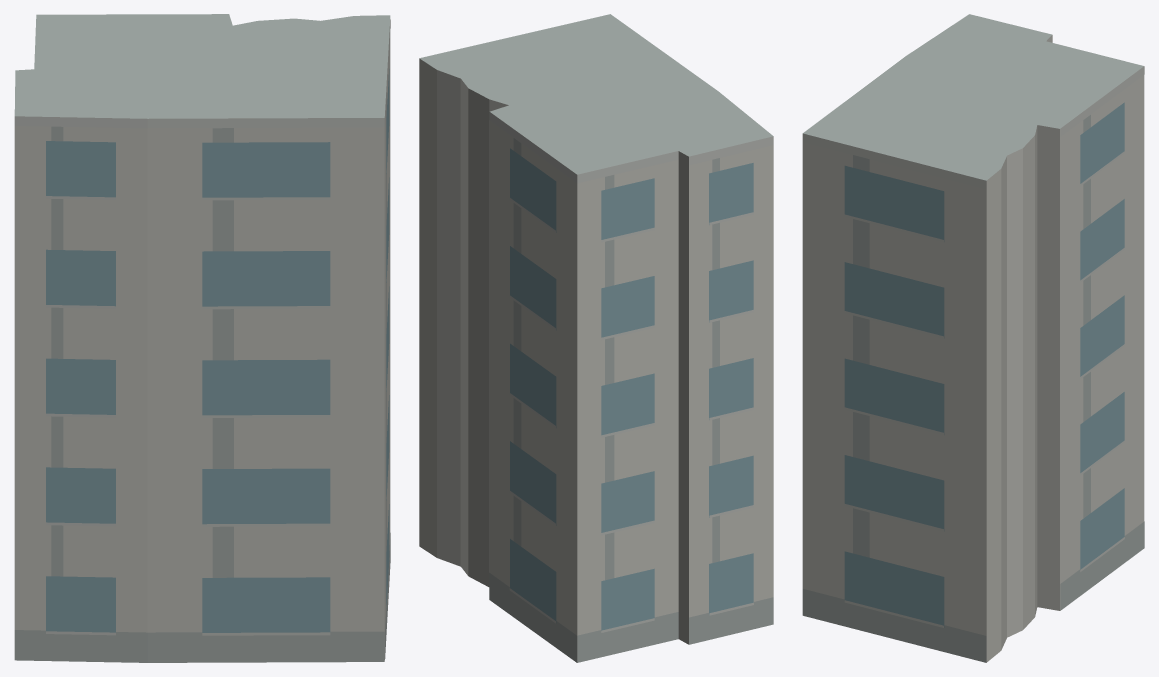
The model's file is survey-upis-32726293.glb.
3 renders of one model, left to right at view 1: azimuth 30°, elevation 25°; view 2: azimuth 150°, elevation 25°; view 3: azimuth 270°, elevation 25°, orthographic. The views are drawn at different scales.
Parts seen in each view (by area): view 1: survey-upis-32726293.tmp; view 2: survey-upis-32726293.tmp; view 3: survey-upis-32726293.tmp.
Part boxes in pixels (bbox=[...]): survey-upis-32726293.tmp: bbox=[14, 14, 390, 662]; survey-upis-32726293.tmp: bbox=[419, 14, 773, 662]; survey-upis-32726293.tmp: bbox=[802, 14, 1144, 662].
Size of the model in its own units: 10.17 by 13.7 by 8.81.
